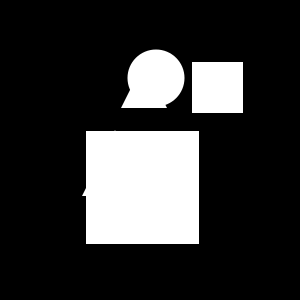circle: (86, 131, 199, 244), (192, 62, 243, 113)
rectangle: (128, 50, 184, 106)
triangle: (82, 130, 148, 196), (121, 62, 167, 108)
